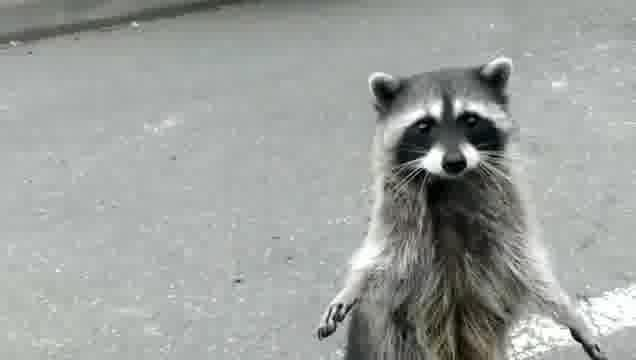raccoon: (316, 55, 609, 360)
